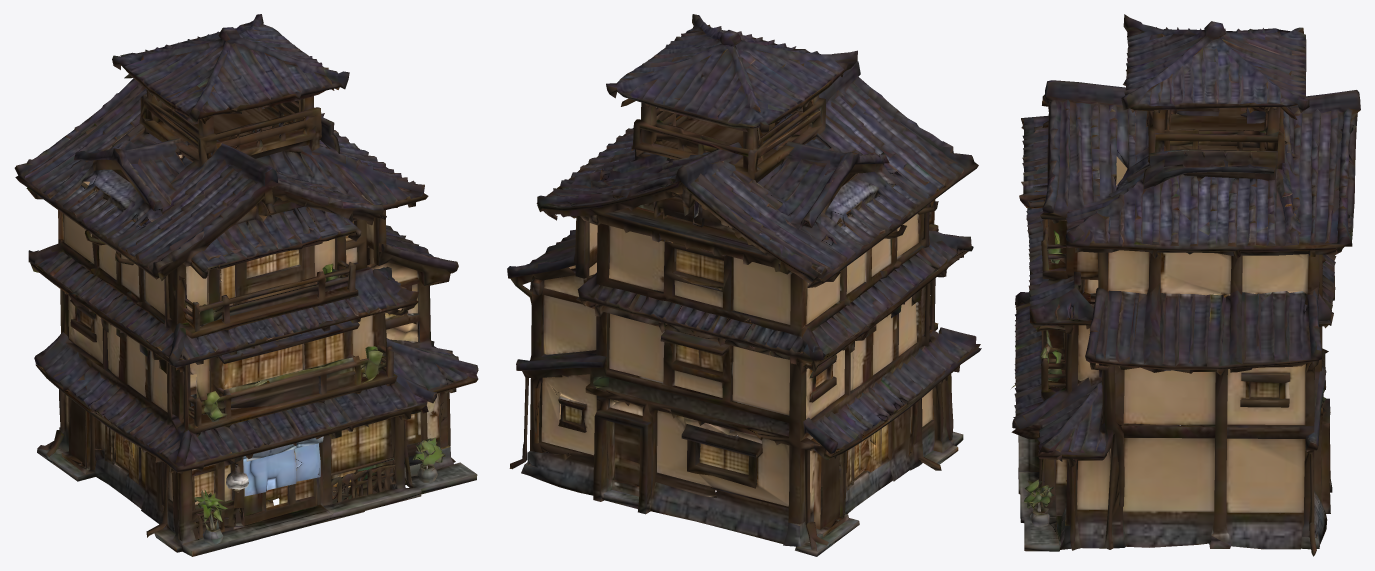
The picture shows the model from 3 angles, left to right: view 1: azimuth 30°, elevation 25°; view 2: azimuth 150°, elevation 25°; view 3: azimuth 270°, elevation 25°; orthographic projection. The views are drawn at different scales.
Visible parts, largest first — view 1: compact__tower_3__native_mobile; view 2: compact__tower_3__native_mobile; view 3: compact__tower_3__native_mobile.
Boxes of the visible parts, left/top/right/bottom form: compact__tower_3__native_mobile: left=14, top=14, right=478, bottom=556; compact__tower_3__native_mobile: left=507, top=14, right=981, bottom=556; compact__tower_3__native_mobile: left=1011, top=14, right=1360, bottom=556.
Size of the model in its own units: 0.8008 by 1 by 0.7012.
1 material, 1 textured.
